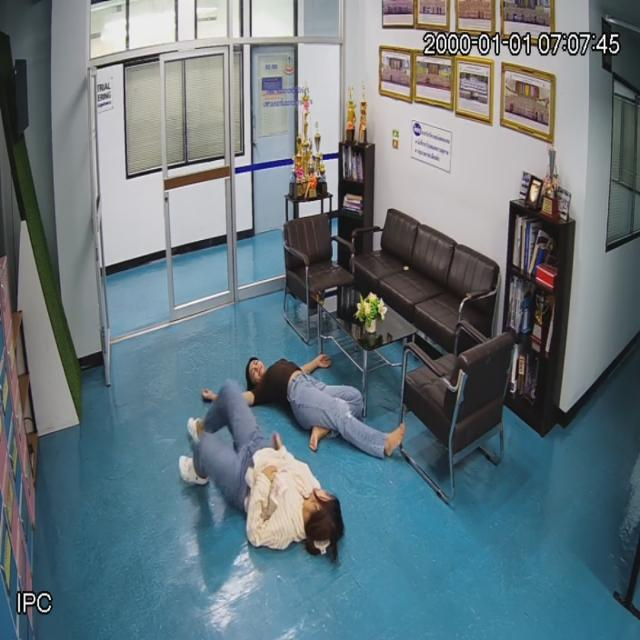fall: (188, 375, 348, 567), (244, 340, 409, 464)
